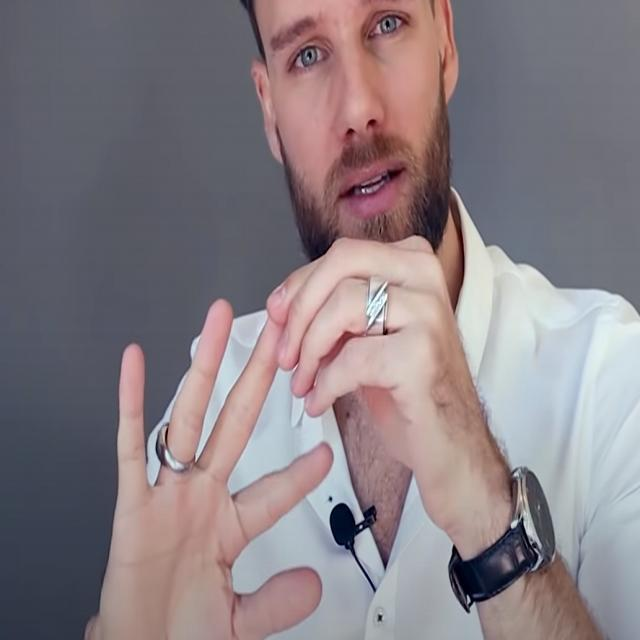Watch: (448, 464, 560, 612)
